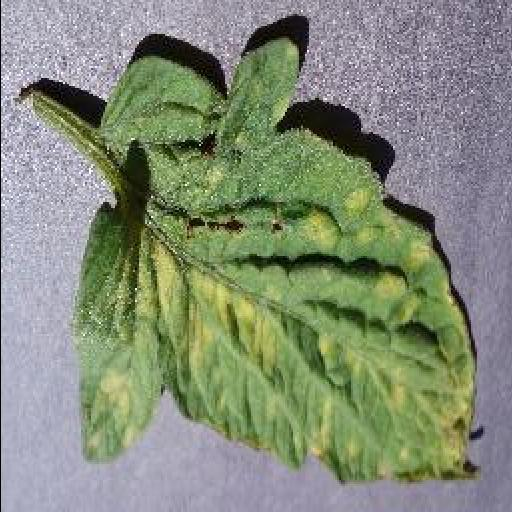disease_tomato: (72, 40, 478, 486)
